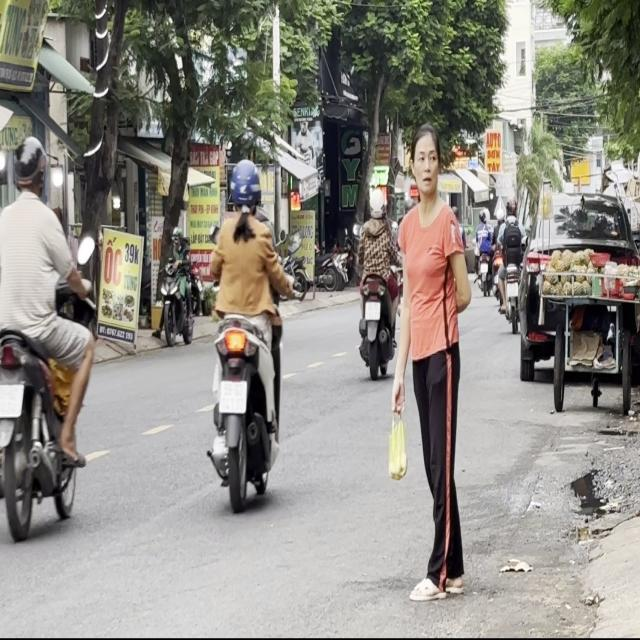helmet: (12, 134, 48, 196), (228, 158, 261, 217), (368, 188, 384, 217)
licenseplate: (0, 134, 96, 539), (204, 155, 291, 510), (354, 188, 398, 378)
nohelmet: (219, 380, 246, 413), (0, 382, 23, 414), (365, 300, 380, 320)
